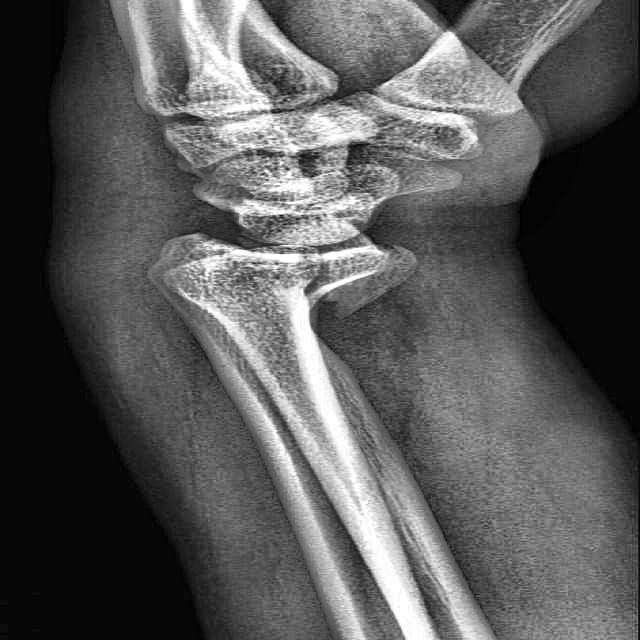Linear: (261, 243, 374, 313)
